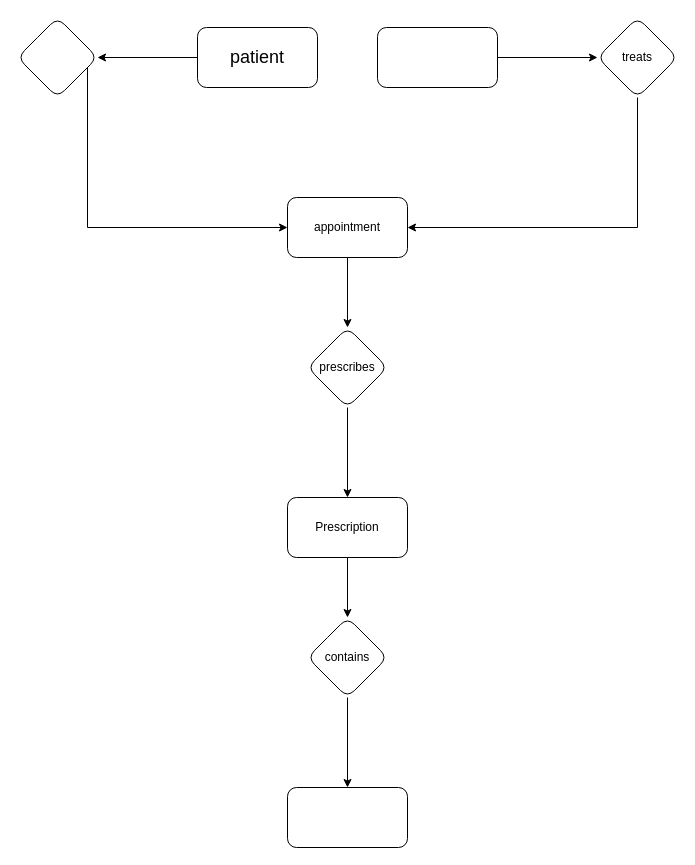
Some shapes in this 695 by 865 pixel diagram are drawn without their labels. The shapes that lost their labels are listed below. From the top down, each one's centre as x and y in pixels, then its label:
the point at 57,57: has
the point at 437,57: doctor
the point at 347,817: Medicine
